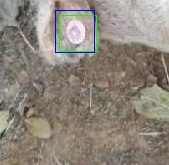text: (59, 15, 96, 51)
